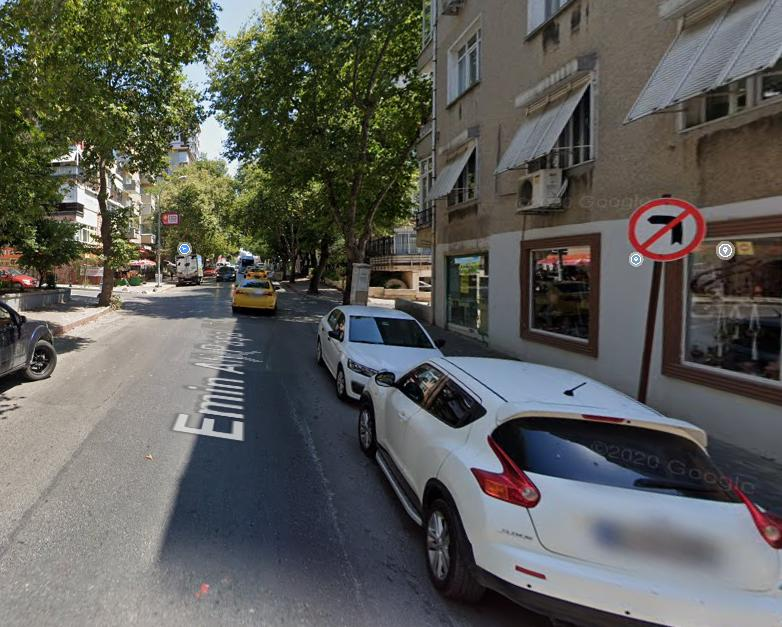leftturnsareforbidden: (629, 200, 700, 258)
